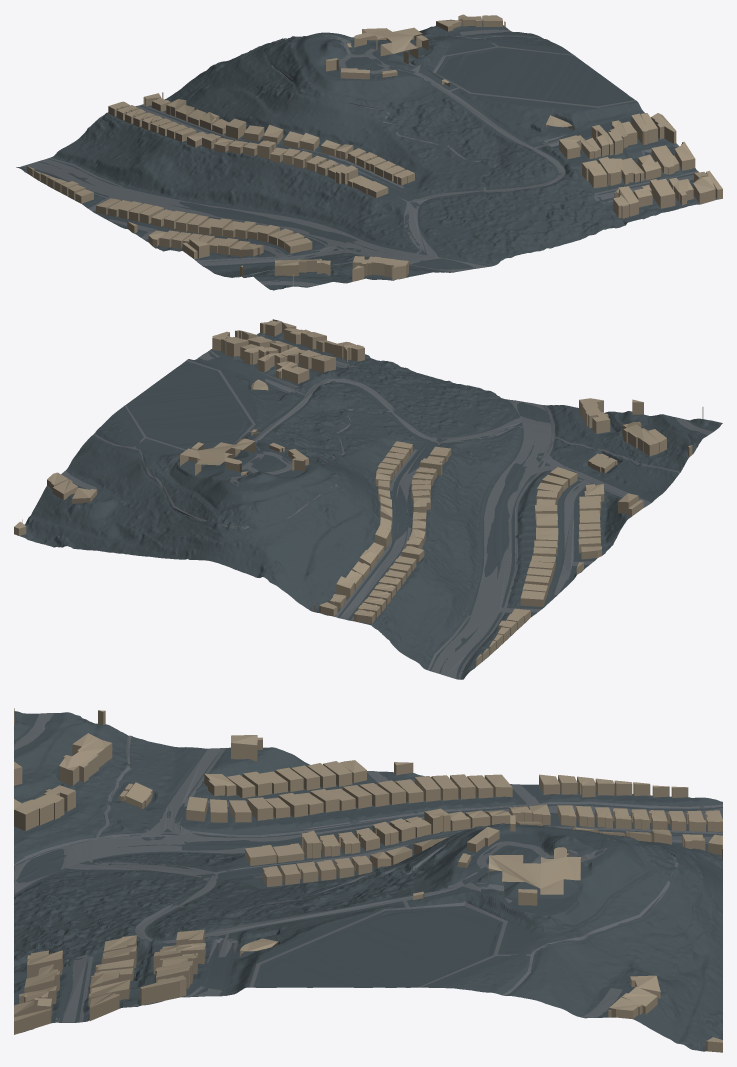
The model's file is epsg26910-1427-10882.lod0.glb.
3 views of the same model, one above another, from view 1: azimuth 30°, elevation 25°; view 2: azimuth 150°, elevation 25°; view 3: azimuth 270°, elevation 25° (orthographic). The views are drawn at different scales.
Visible parts, largest first — view 1: epsg26910-1427-10882-lod0; view 2: epsg26910-1427-10882-lod0; view 3: epsg26910-1427-10882-lod0.
Part boxes in pixels (x1,y1,x2,y2): epsg26910-1427-10882-lod0: (16,14,722,290); epsg26910-1427-10882-lod0: (14,319,722,679); epsg26910-1427-10882-lod0: (14,708,722,1052).
Size of the model in its own units: 384 by 87.09 by 384.
